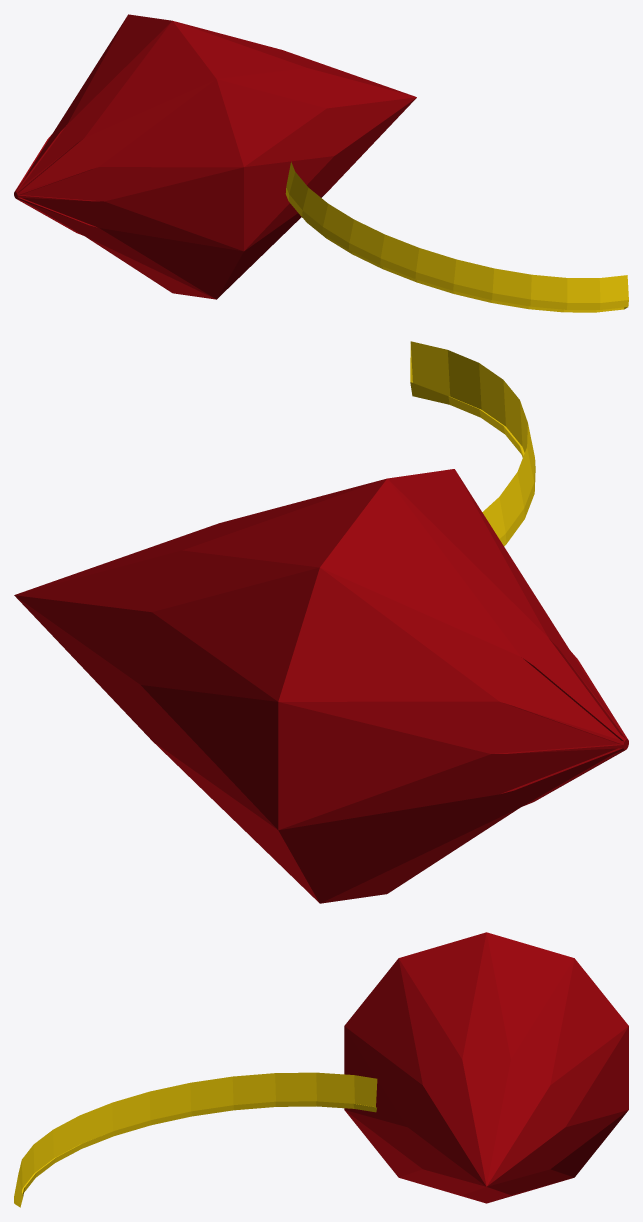
File: RedJewel.fbx
3 renders of one model, top to bottom at view 1: azimuth 30°, elevation 25°; view 2: azimuth 150°, elevation 25°; view 3: azimuth 270°, elevation 25°, orthographic. The views are drawn at different scales.
Visible parts, largest first — view 1: Gem.002, Cylinder.004; view 2: Gem.002, Cylinder.004; view 3: Gem.002, Cylinder.004.
Boxes of the visible parts, x1,y1,x2,y2 form: Gem.002: (14,14,416,299); Cylinder.004: (285,161,628,312); Gem.002: (14,469,628,903); Cylinder.004: (410,341,535,546); Gem.002: (344,932,628,1203); Cylinder.004: (14,1072,377,1207).
Size of the model in its own units: 26.14 by 19.62 by 12.73.
